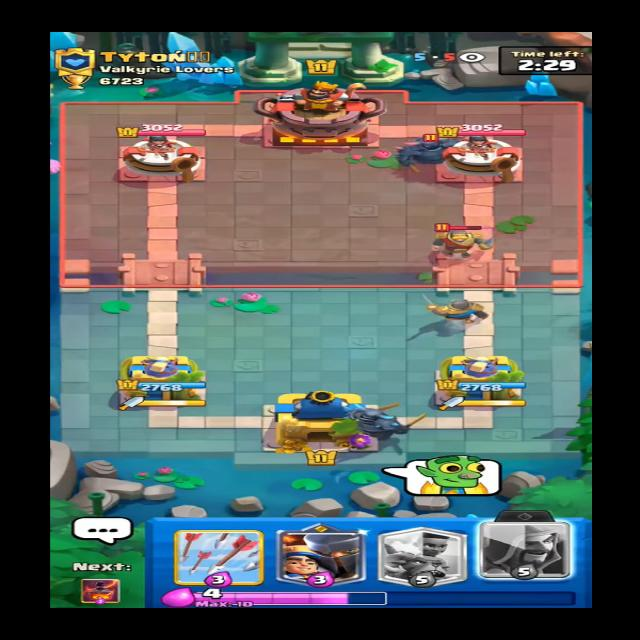Knight: (421, 219, 496, 256)
Pekka: (393, 131, 475, 171)
